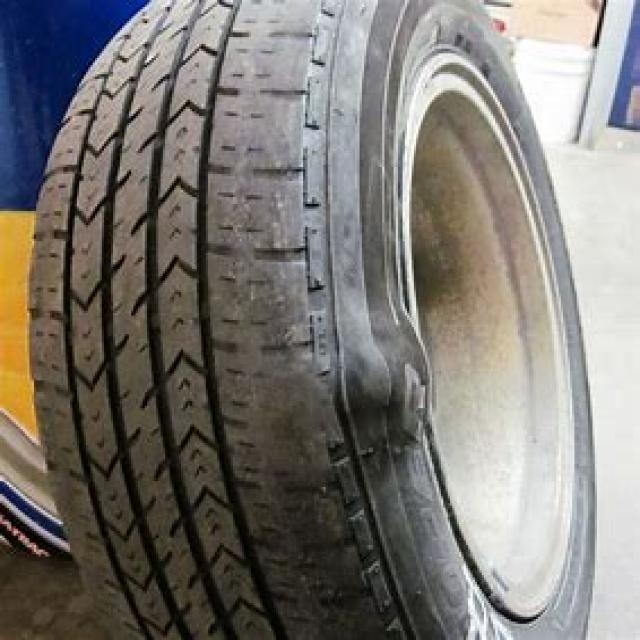Bulge: (314, 296, 446, 474)
